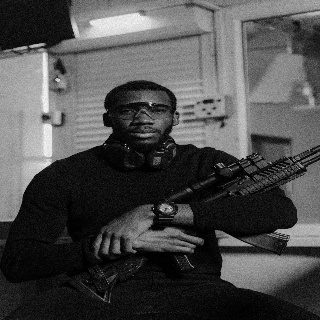rifle: (69, 141, 320, 304)
